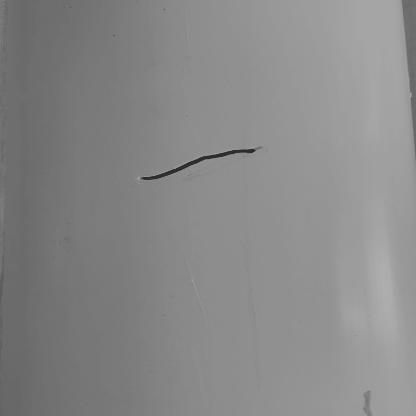fengxi: (138, 146, 265, 179)
